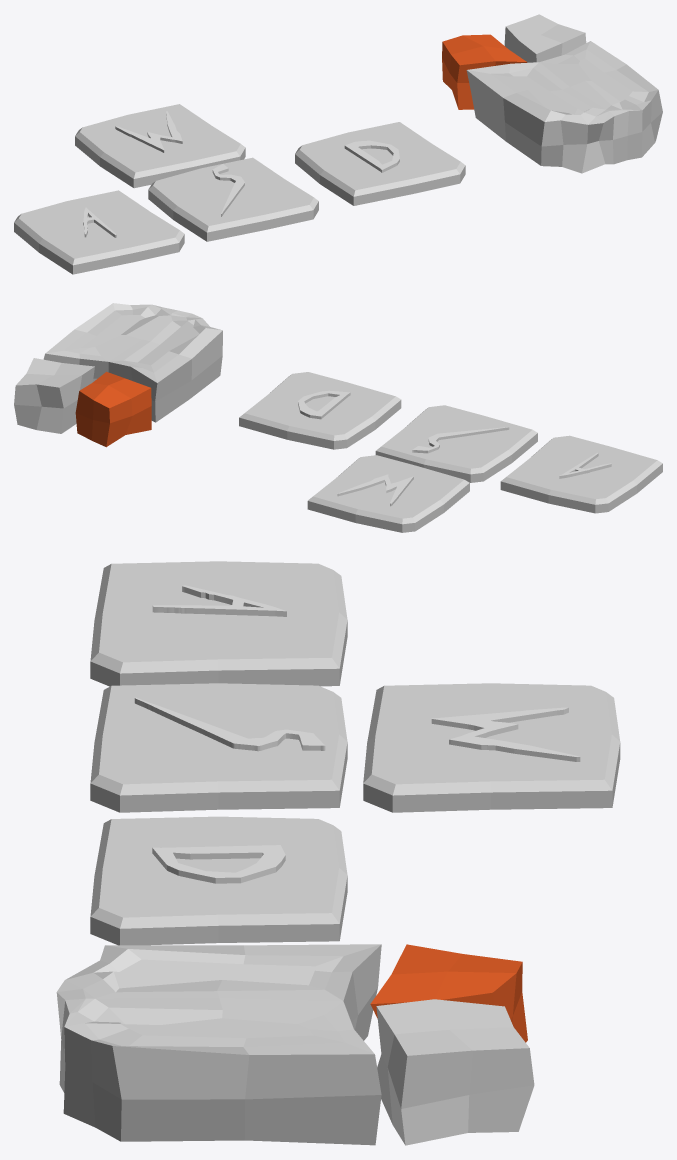
The model's file is tutorial.fbx.
The picture shows the model from 3 angles, top to bottom: view 1: azimuth 30°, elevation 25°; view 2: azimuth 150°, elevation 25°; view 3: azimuth 270°, elevation 25°; orthographic projection. The views are drawn at different scales.
Visible parts, largest first — view 1: Cube.009, Cube.007, Cube.006, Cube.008, Cube.005, Text.003, Text, Text.001; view 2: Cube.009, Cube.007, Cube.005, Cube.008, Cube.006, Text.003, Text, Text.001, Text.002; view 3: Cube.009, Cube.006, Cube.007, Cube.005, Cube.008, Text.003, Text, Text.001, Text.002.
Part boxes in pixels (x1,y1,x2,y2): Cube.009: (442,14,662,173); Cube.007: (14,190,184,274); Cube.006: (148,157,318,241); Cube.008: (295,122,465,205); Cube.005: (75,104,245,188); Text.003: (344,140,399,172); Text: (115,111,182,152); Text.001: (212,164,244,216); Cube.009: (14,303,222,447); Cube.007: (500,435,662,513); Cube.005: (307,455,469,532); Cube.008: (239,372,401,449); Cube.006: (375,405,537,482); Text.003: (298,390,350,419); Text: (337,474,413,506); Text.001: (412,427,509,453); Text.002: (559,453,611,478); Cube.009: (56,944,534,1145); Cube.006: (90,683,347,812); Cube.007: (90,561,347,686); Cube.005: (363,683,620,812); Cube.008: (90,816,347,945); Text.003: (152,845,285,883); Text: (431,707,580,761); Text.001: (134,697,325,751); Text.002: (152,585,286,616).
Bounding box in the file's own units: 9.99 × 0.8771 × 4.36.
